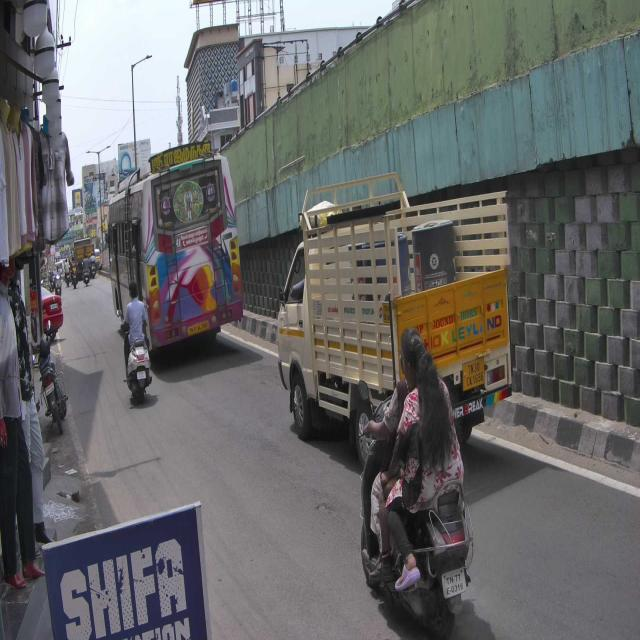double_rider: (356, 325, 475, 633)
